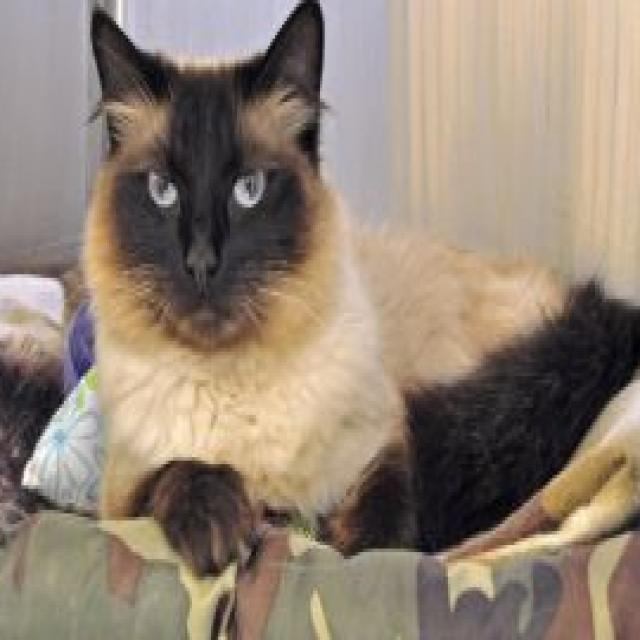Siamese: (73, 0, 640, 584)
